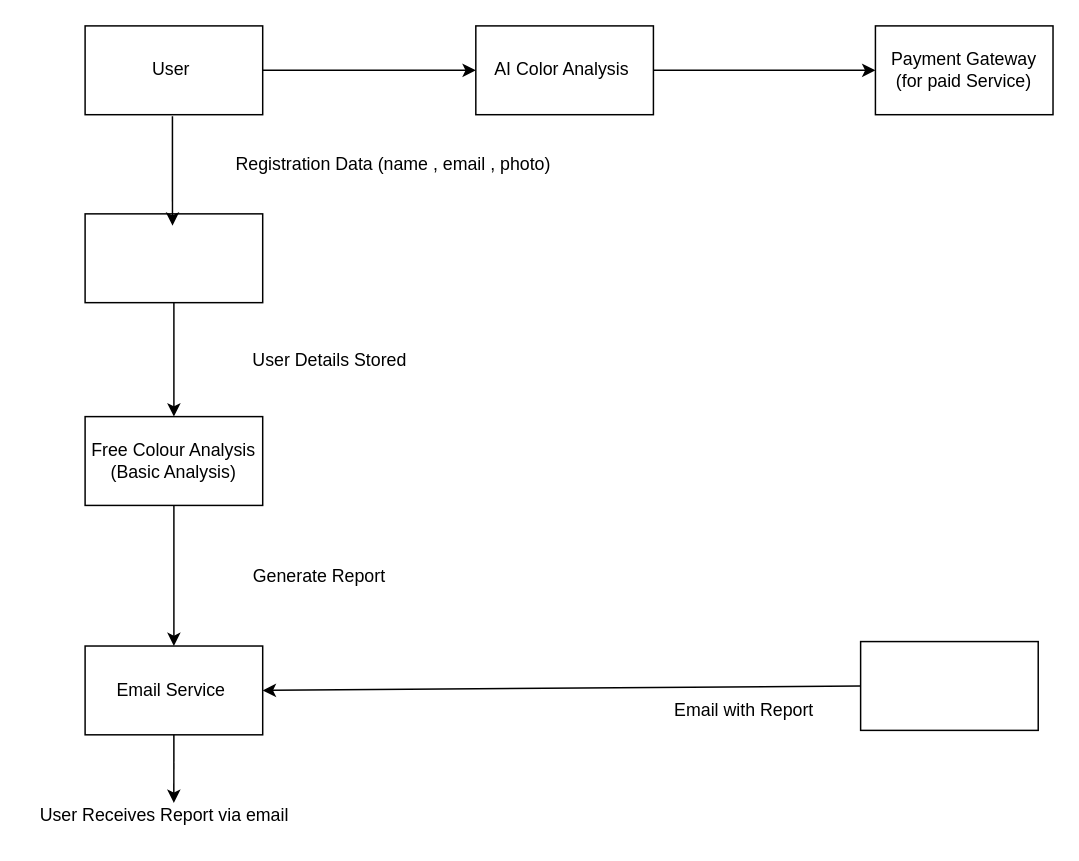
The diagram is 1079 pixels wide and 861 high, and some of its shapes have lost their labels. The shapes that lost their labels are listed below. From the top down, each one's box as (x1, y1, x2, y2) in pixels, then its label:
(84, 212, 263, 303): User Database
(859, 640, 1038, 730): Report Delivery
